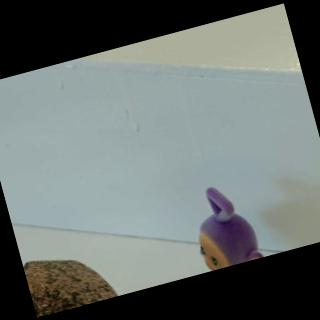teletubby: (199, 187, 262, 270)
